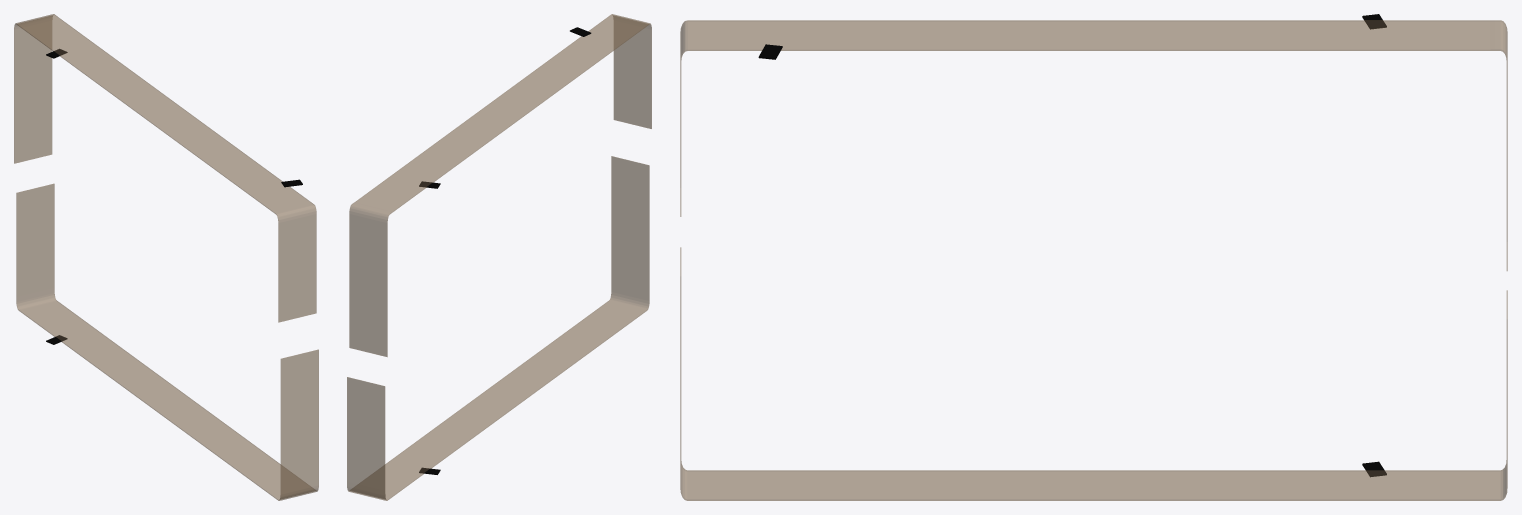
File: tape_open_10.fbx
3 views of the same model, side by side, from view 1: azimuth 30°, elevation 25°; view 2: azimuth 150°, elevation 25°; view 3: azimuth 270°, elevation 25° (orthographic). The views are drawn at different scales.
Parts seen in each view (by area): view 1: tape_0.026, 평면.083; view 2: tape_0.026, 평면.083; view 3: tape_0.026.
Boxes of the visible parts, x1,y1,x2,y2 form: tape_0.026: [14, 14, 318, 500]; 평면.083: [46, 49, 302, 344]; tape_0.026: [347, 14, 651, 500]; 평면.083: [419, 27, 591, 474]; tape_0.026: [680, 20, 1507, 500].
Size of the model in its own units: 33.37 by 151 by 251.
